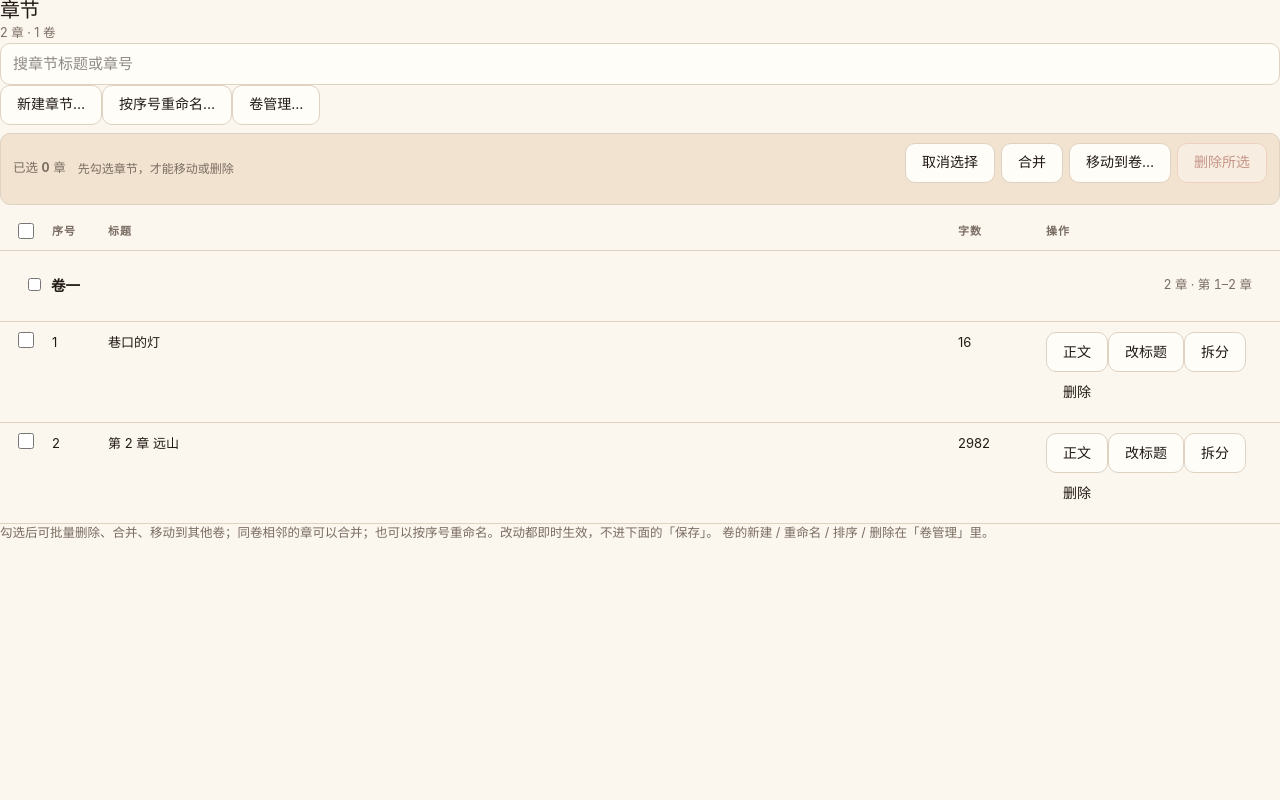
Scenario: 章节正文抽屉：打开与实时统计 › 点「正文」打开抽屉，标题、正文、字数与段数都对得上
Click the button with test id "admin-chapter-body-10": click(1077, 352) [1046,332,1108,372]
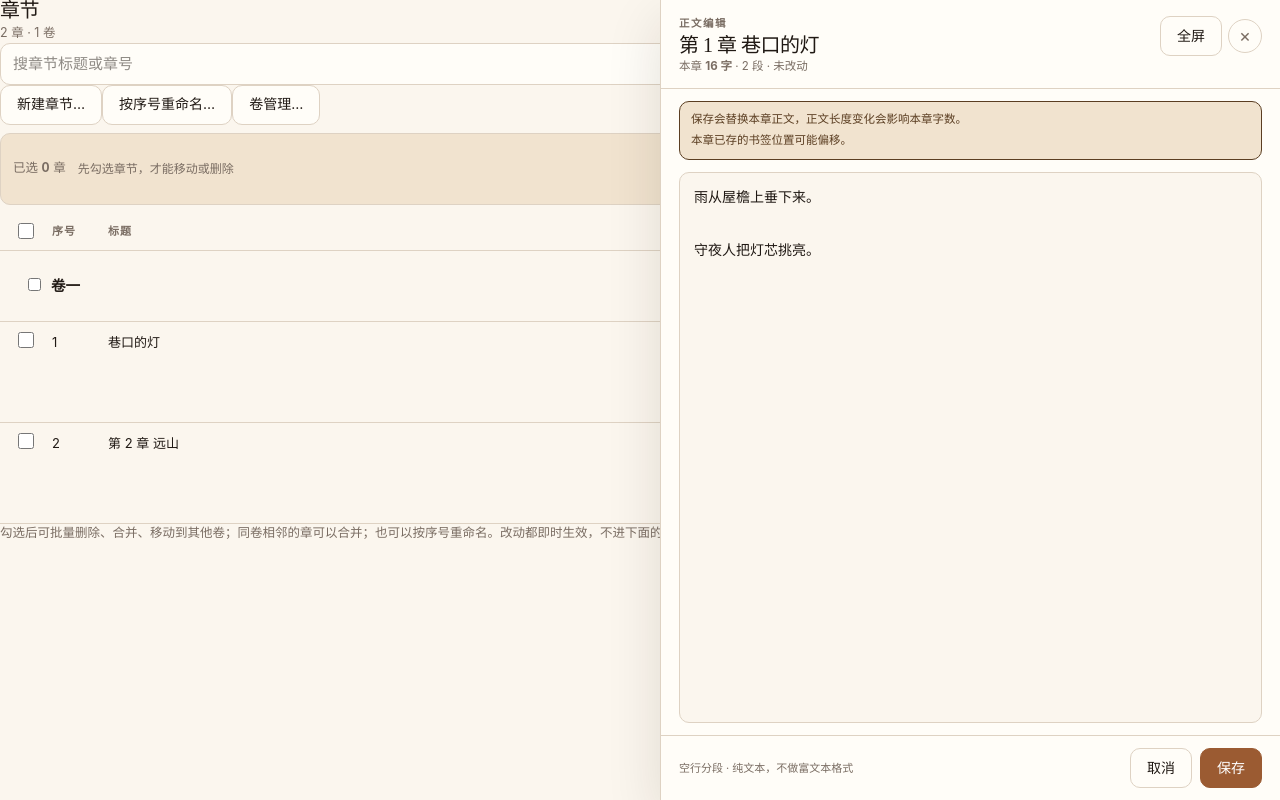
expect the heading with test id "chapter-body-title" reads "第 1 章 巷口的灯": met, box [679,34,819,56]
expect the text with test id "chapter-body-words" shows "16": met, box [705,59,732,73]
expect the text with test id "chapter-body-paras" reads "2": met, box [742,59,749,73]
